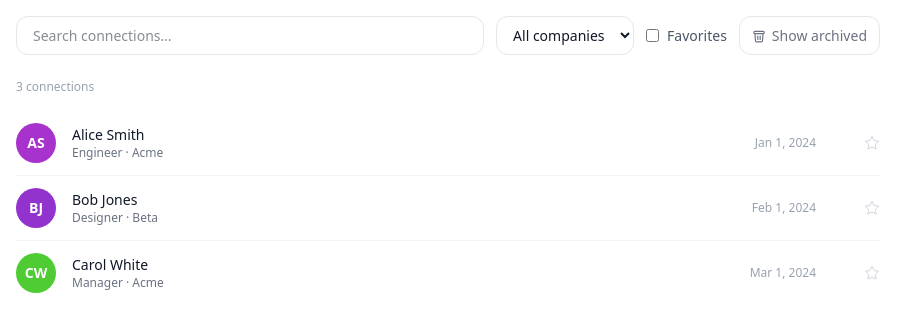
Test: SearchView › filters by search query
The image size is (897, 310).
Type "Alice" into the search field with placeholder "Search connections…" at (250, 36), box [16, 16, 484, 55]
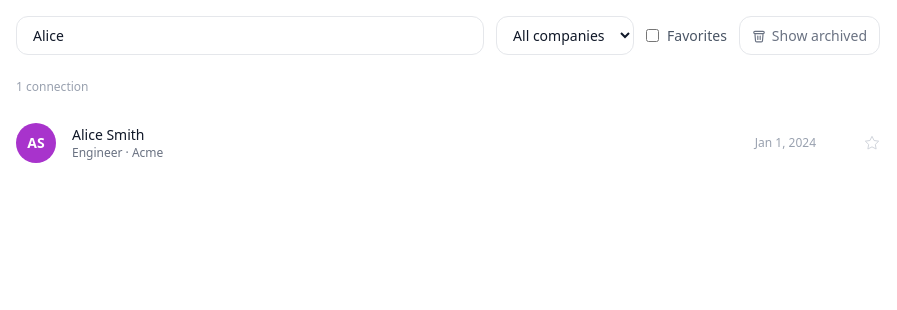
Check: the text "Alice Smith" is shown, box [72, 125, 144, 144]
Check: the link "Bob Jones" is gone
